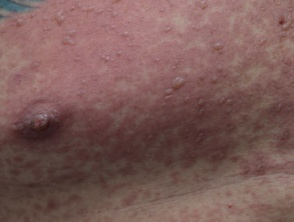SJS-TEN: (0, 0, 294, 201)
